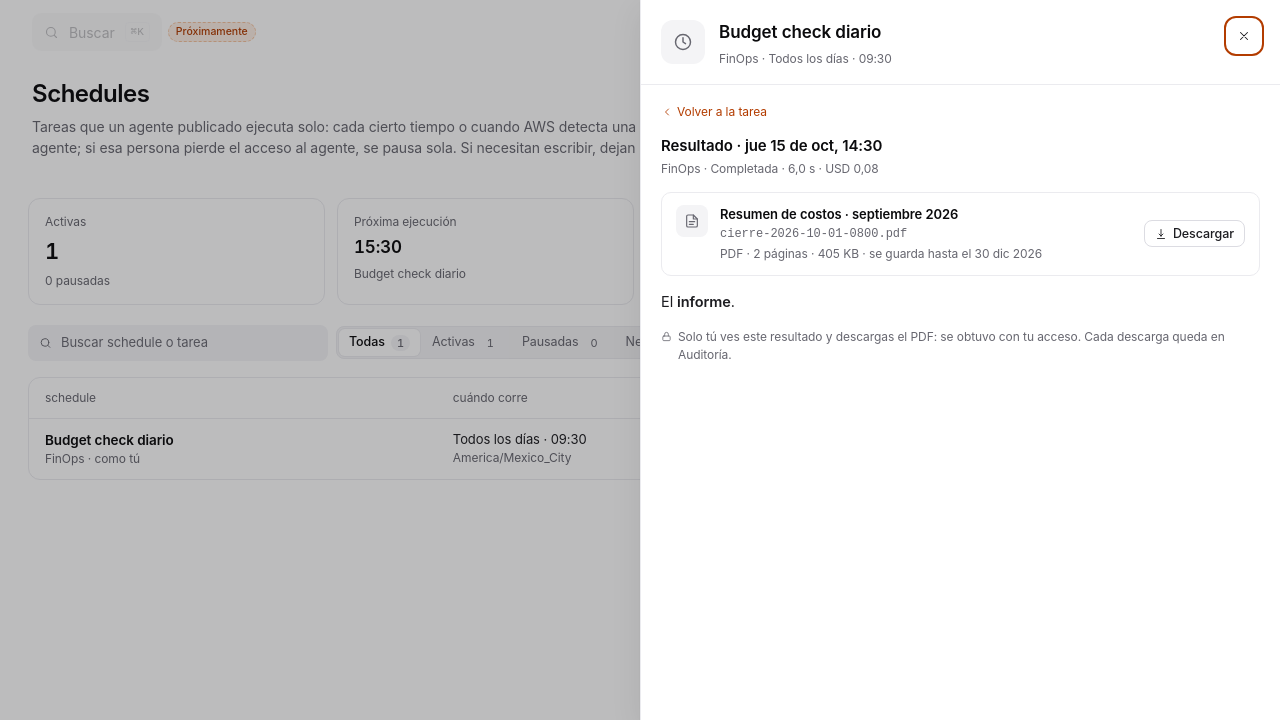
Test case: task reports › says it could not prepare the download
Click the button "Descargar": (1194, 234) [1144,220,1245,247]
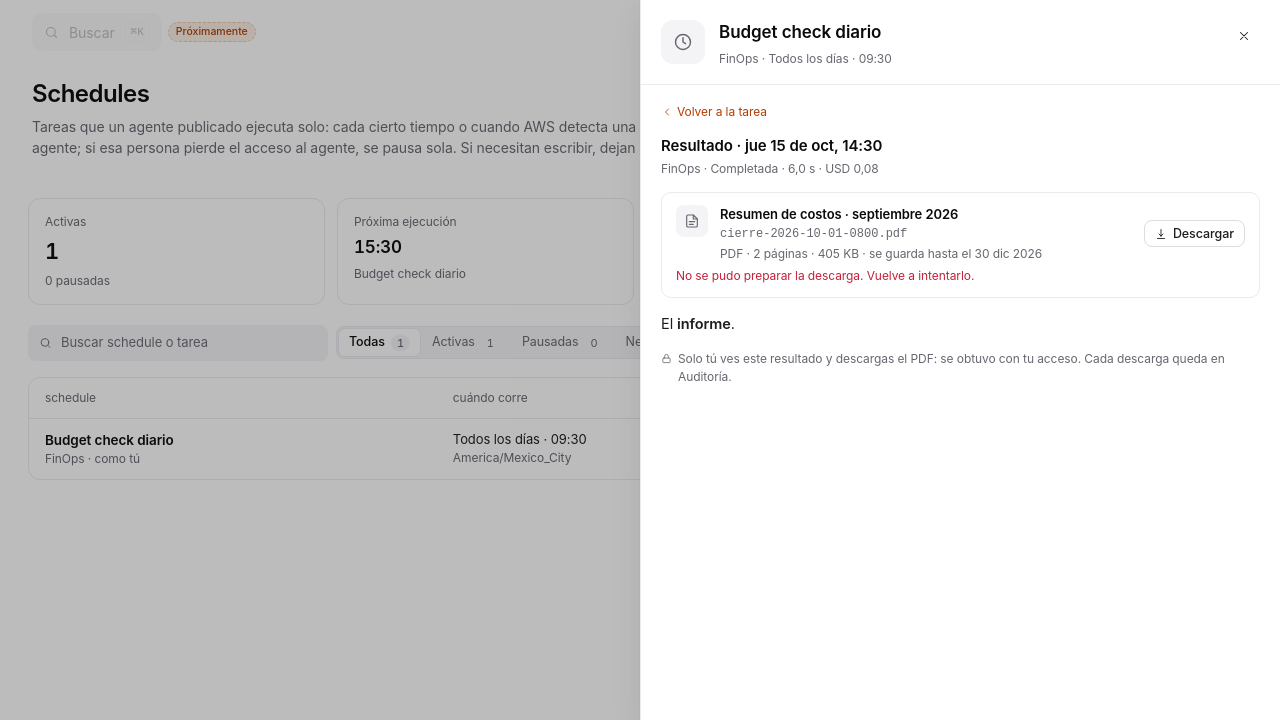
expect the message reads "No se pudo preparar la descarga. Vuelve a intentarlo.": met, box [676,268,974,283]
